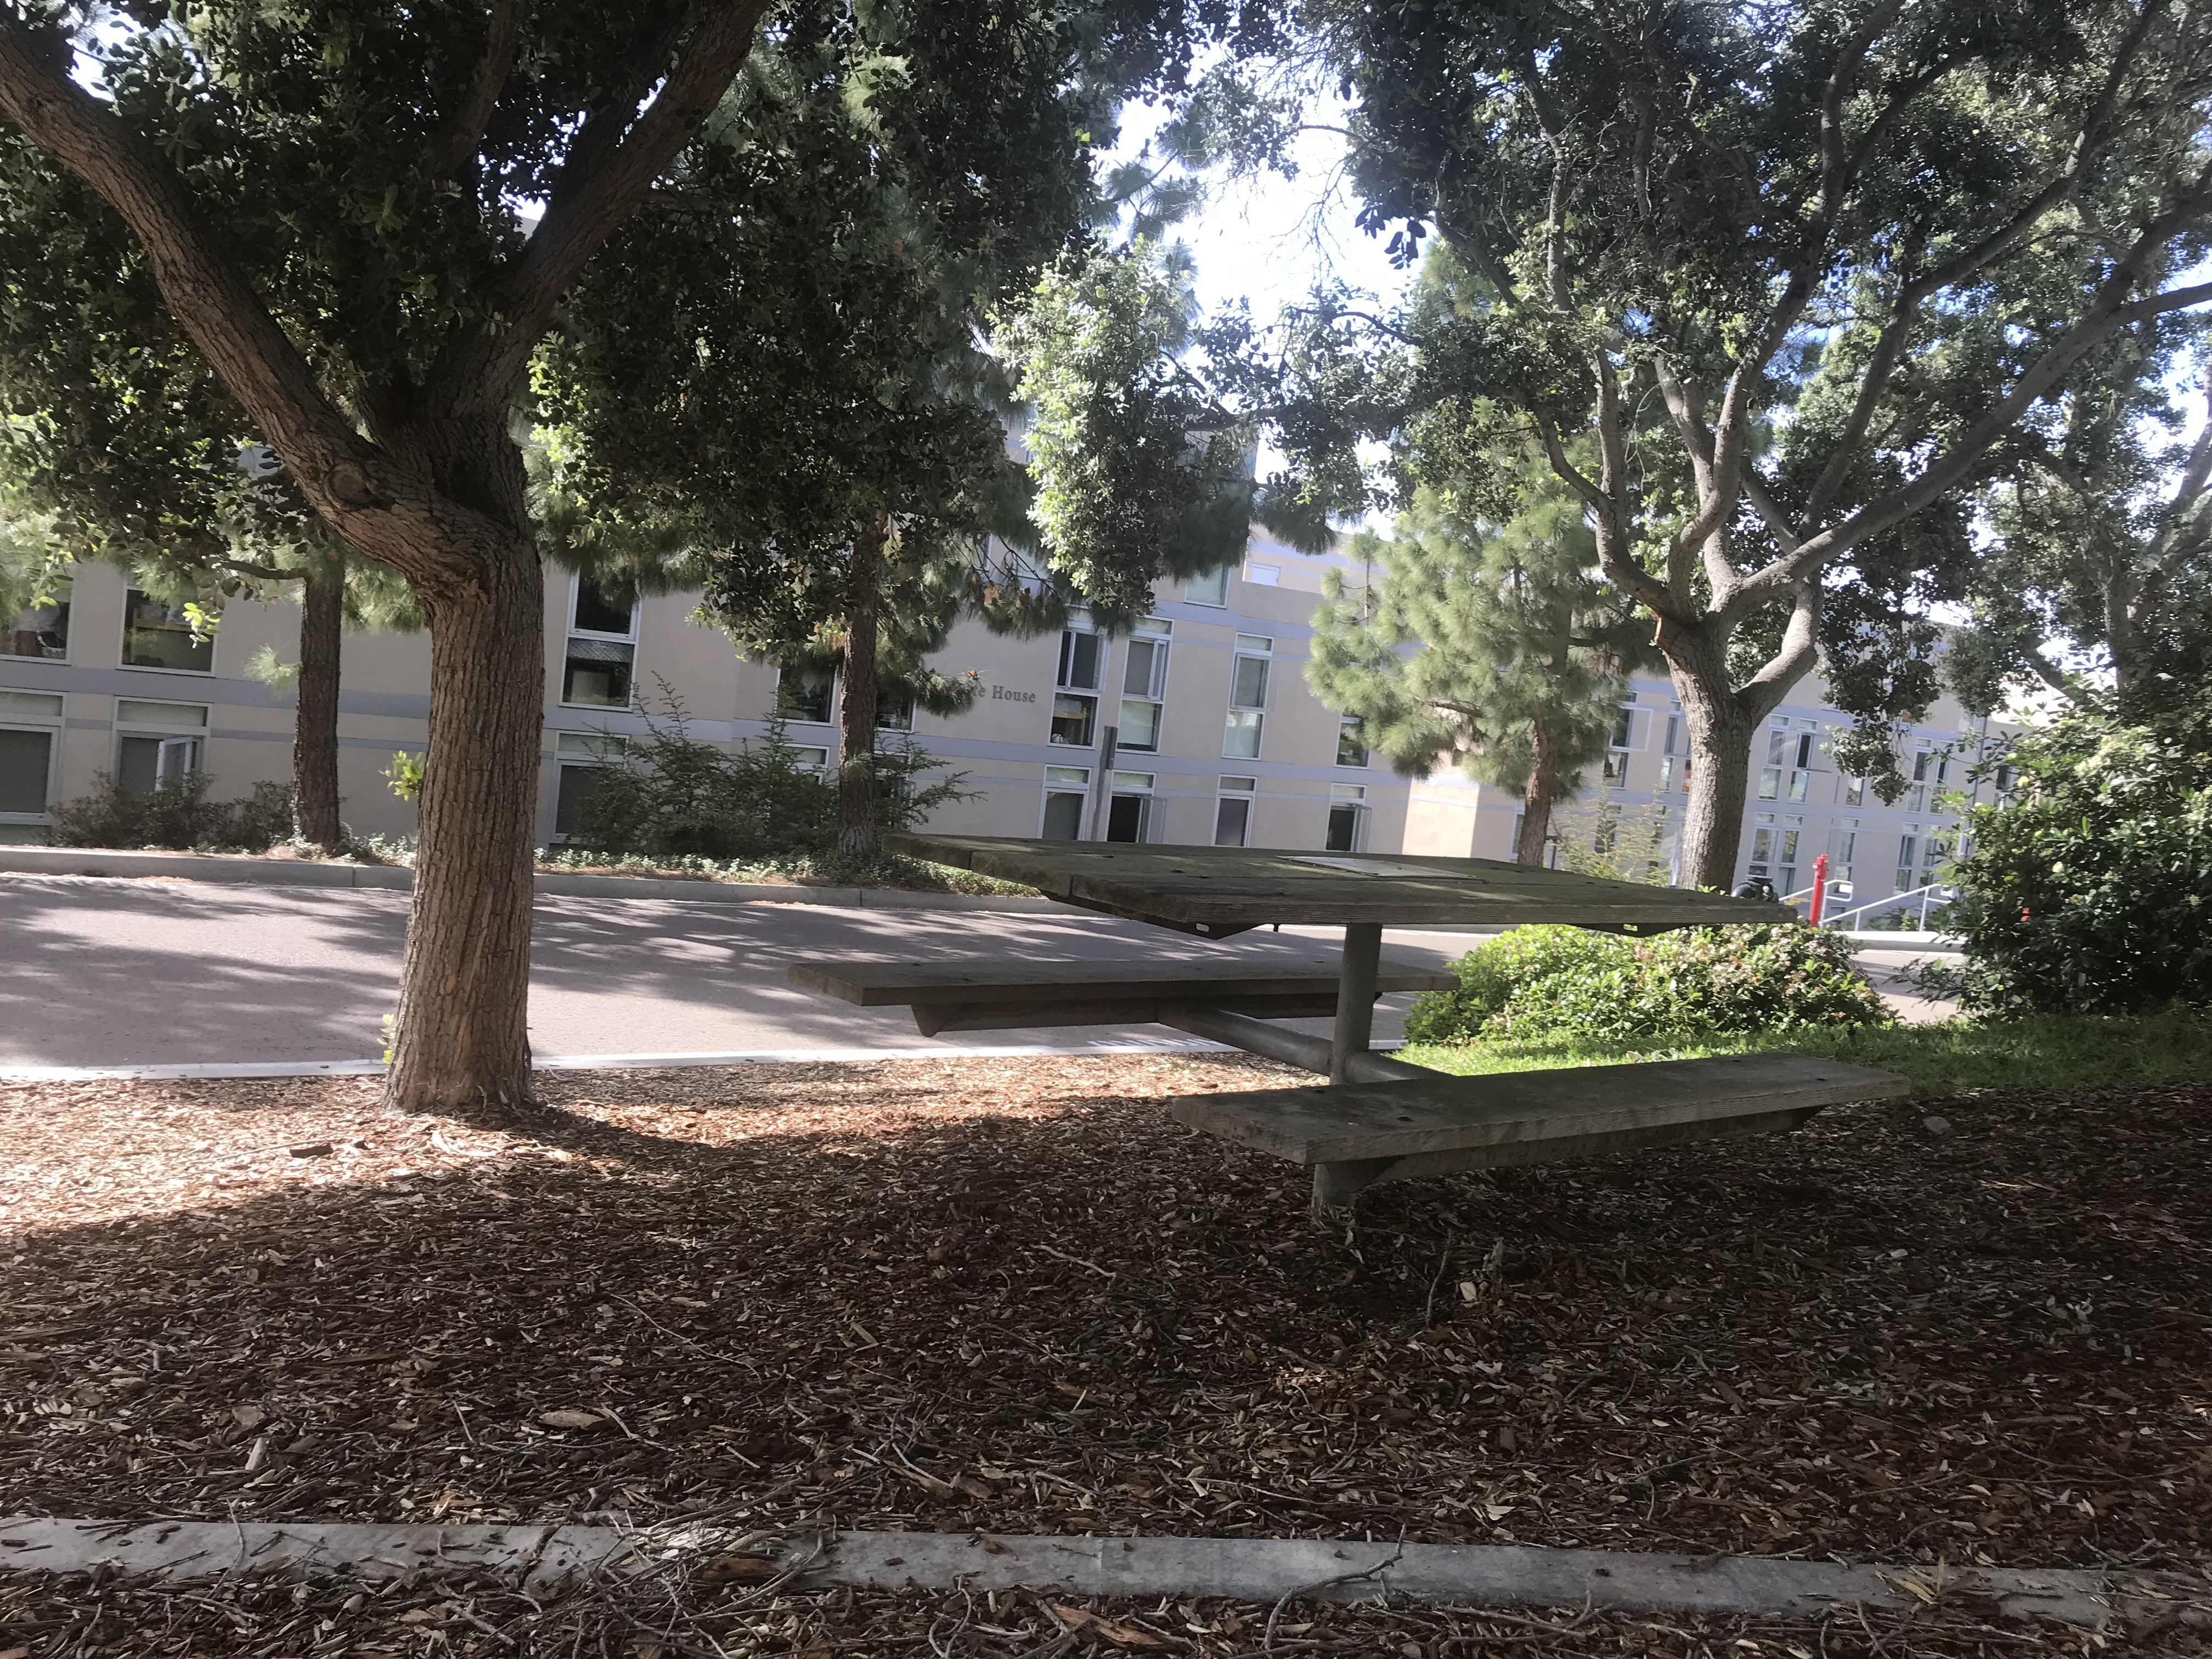Edge: (3, 1502, 2203, 1635), (14, 1028, 1305, 1079), (7, 847, 1024, 892)
Obstacle: (812, 840, 1940, 1281), (378, 451, 561, 1129), (1637, 526, 1768, 911)
